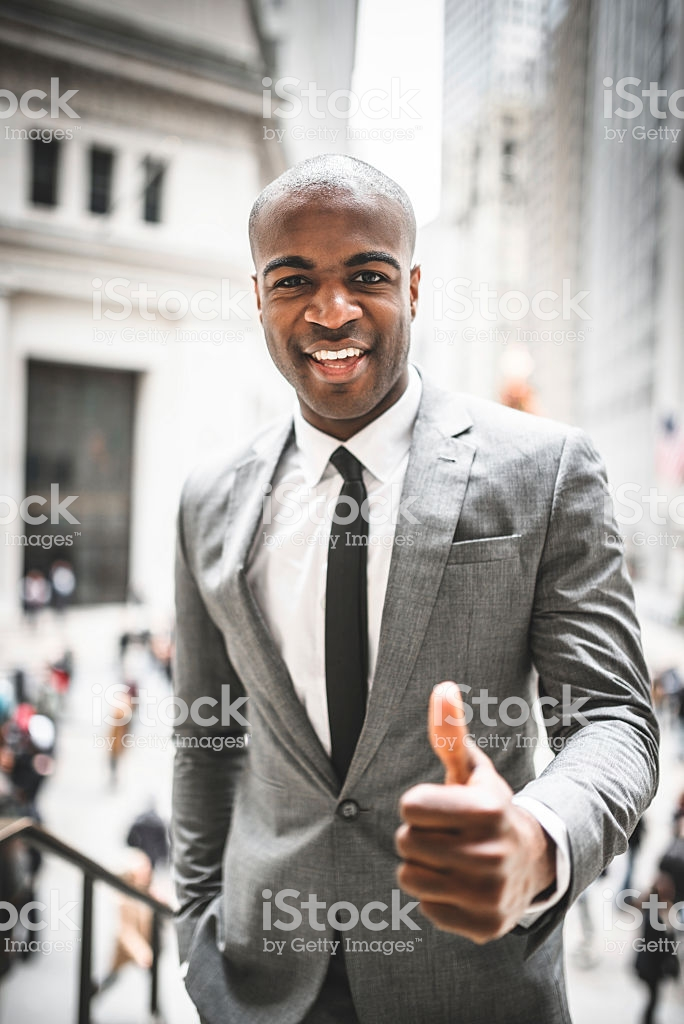thumbsup: (387, 680, 528, 954)
